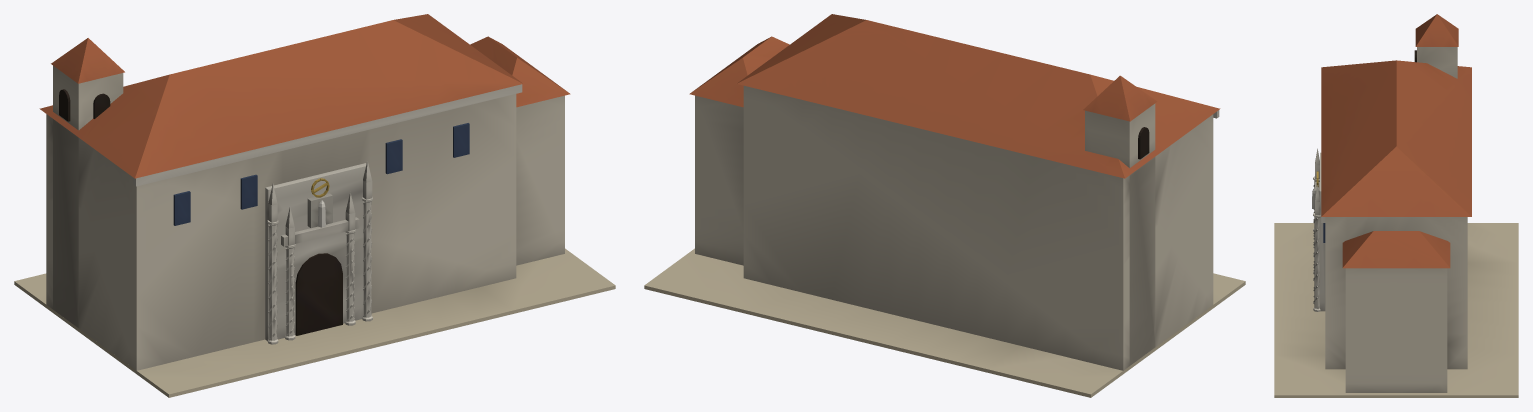
The model's file is conceicao-velha.glb.
The picture shows the model from 3 angles, left to right: view 1: azimuth 30°, elevation 25°; view 2: azimuth 150°, elevation 25°; view 3: azimuth 270°, elevation 25°; orthographic projection. The views are drawn at different scales.
Parts seen in each view (by area): view 1: p1_church, p2_portal, p0_ground; view 2: p1_church, p0_ground, p2_portal; view 3: p1_church, p0_ground, p2_portal.
Boxes of the visible parts, bbox=[...] form: p1_church: bbox=[39, 14, 570, 370]; p2_portal: bbox=[51, 38, 372, 344]; p0_ground: bbox=[14, 248, 615, 397]; p1_church: bbox=[689, 14, 1220, 370]; p0_ground: bbox=[644, 248, 1245, 397]; p2_portal: bbox=[1083, 75, 1157, 365]; p1_church: bbox=[1321, 60, 1471, 392]; p0_ground: bbox=[1274, 223, 1518, 397]; p2_portal: bbox=[1312, 14, 1458, 311].
Size of the model in its own units: 40.4 by 23.9 by 24.
